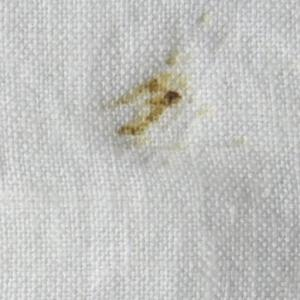Oil Stain: (99, 10, 254, 177)
